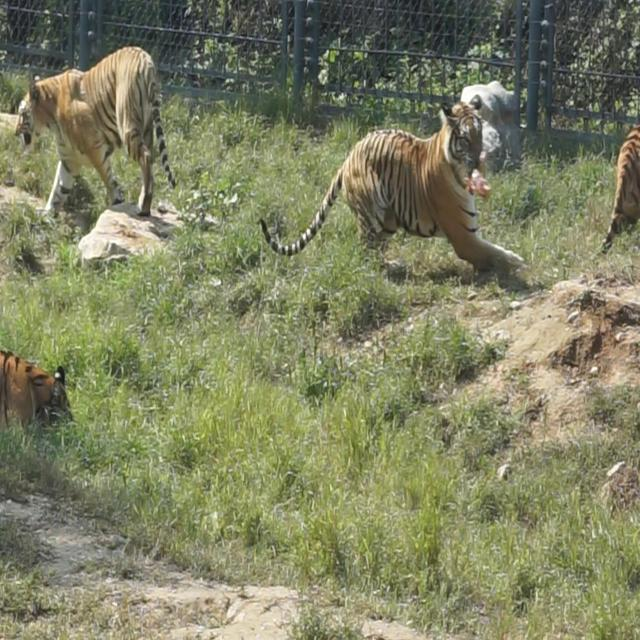tiger: (258, 97, 529, 279), (13, 44, 176, 218), (0, 342, 73, 438), (600, 101, 639, 256), (458, 79, 522, 172)
